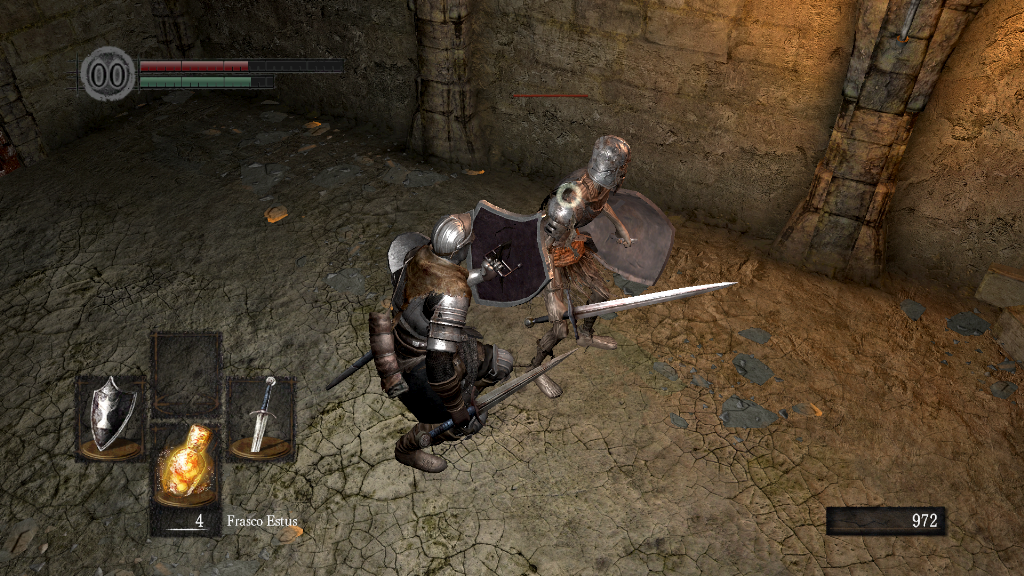health: (138, 58, 343, 71)
humanity: (80, 45, 136, 102)
player: (374, 199, 580, 473)
souls: (825, 506, 945, 536)
stamina: (138, 74, 274, 88)
undeadSoldier: (534, 134, 678, 402)
